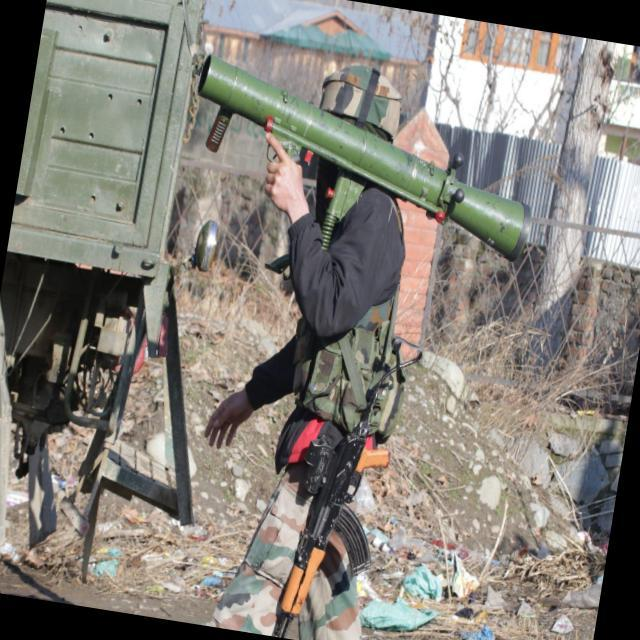rocket: (172, 42, 552, 269)
